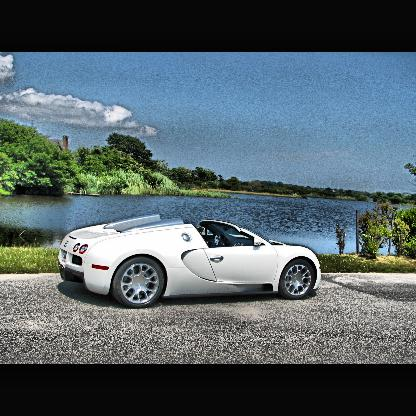Bugatti Veyron 16-4 Convertible 2009: (59, 214, 321, 306)
